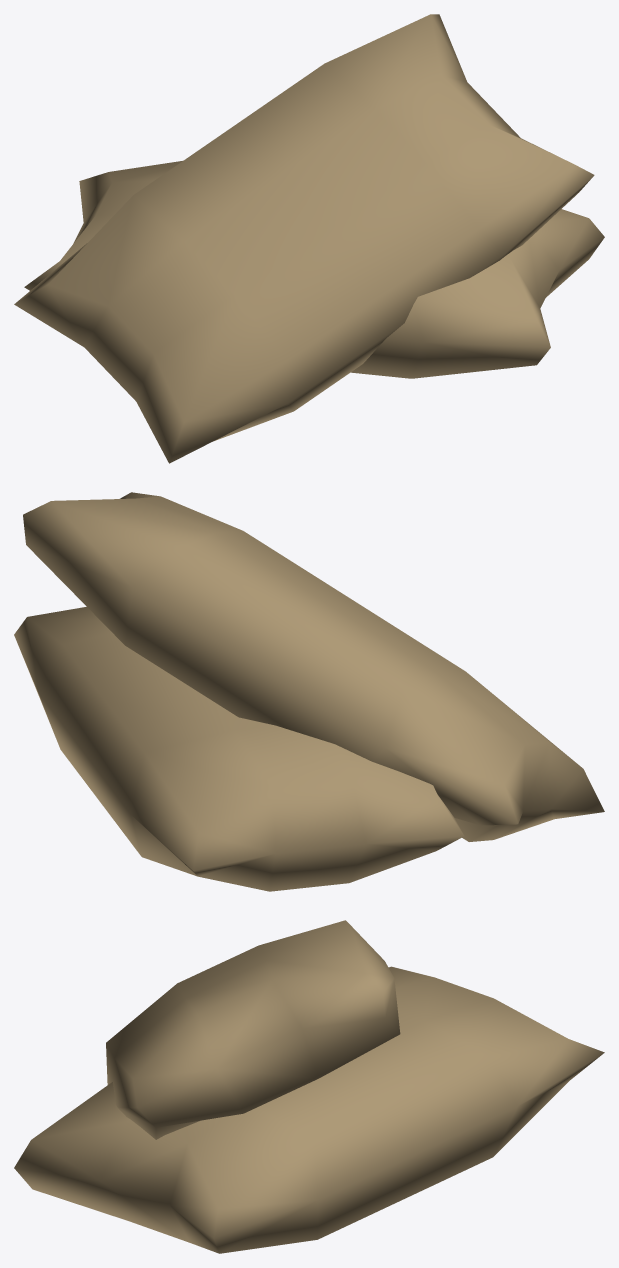
The model's file is Japanese Runner Obstacle.fbx.
3 views of the same model, one above another, from view 1: azimuth 30°, elevation 25°; view 2: azimuth 150°, elevation 25°; view 3: azimuth 270°, elevation 25° (orthographic). The views are drawn at different scales.
Parts seen in each view (by area): view 1: polySurface1, polySurface3; view 2: polySurface1, polySurface3; view 3: polySurface3, polySurface1.
Boxes of the visible parts, bbox=[...] form: polySurface1: bbox=[14, 14, 594, 463]; polySurface3: bbox=[24, 161, 604, 378]; polySurface1: bbox=[23, 492, 604, 841]; polySurface3: bbox=[14, 606, 464, 891]; polySurface3: bbox=[14, 966, 604, 1253]; polySurface1: bbox=[106, 920, 400, 1139].
Bounding box in the file's own units: 156 × 79.02 × 143.
